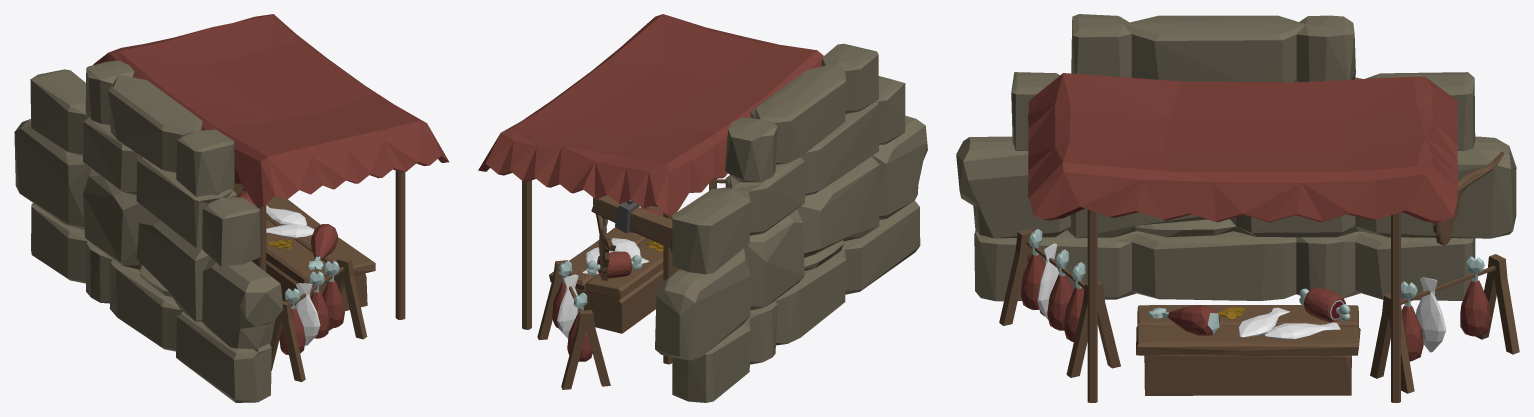
The model's file is butcherV2_shop.glb.
3 renders of one model, left to right at view 1: azimuth 30°, elevation 25°; view 2: azimuth 150°, elevation 25°; view 3: azimuth 270°, elevation 25°, orthographic. The views are drawn at different scales.
Visible parts, largest first — view 1: Wall, botcher market, rack2, drumstick, fish, fish.001; view 2: Wall, botcher market, rack, WallMount, meatthigh, fish; view 3: botcher market, Wall, rack, rack2, drumstick, meatthigh, WallMount, fish.001, fish.
Boxes of the visible parts, <box> form: Wall: <box>14,60,282,402</box>; botcher market: <box>93,14,448,319</box>; rack2: <box>270,257,367,381</box>; drumstick: <box>307,224,337,270</box>; fish: <box>266,224,314,238</box>; fish.001: <box>266,205,306,225</box>; Wall: <box>655,43,927,402</box>; botcher market: <box>478,14,823,364</box>; rack: <box>537,260,610,389</box>; WallMount: <box>591,195,672,280</box>; meatthigh: <box>587,251,642,278</box>; fish: <box>611,238,649,263</box>; botcher market: <box>1028,73,1457,402</box>; Wall: <box>956,14,1516,301</box>; rack: <box>1370,254,1519,393</box>; rack2: <box>999,229,1120,377</box>; drumstick: <box>1148,305,1220,335</box>; meatthigh: <box>1299,287,1350,322</box>; WallMount: <box>1431,151,1504,245</box>; fish.001: <box>1264,322,1340,339</box>; fish: <box>1238,307,1289,337</box>.
Size of the model in its own units: 2.44 by 2.2 by 4.19.
